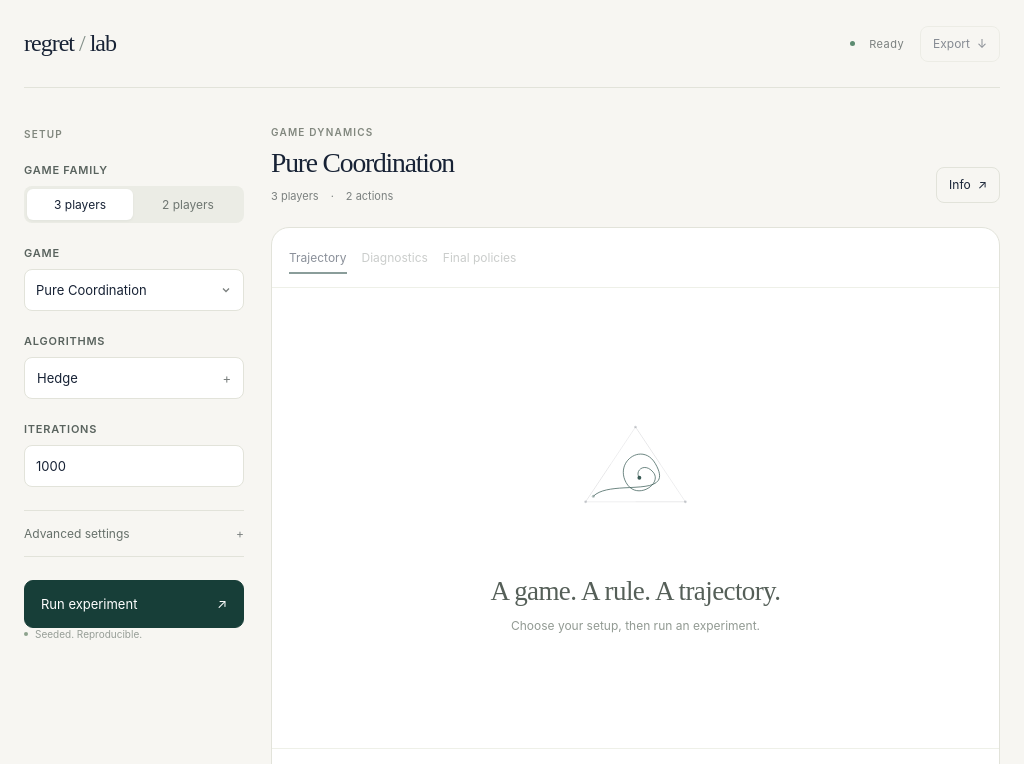
Test case: research workspace › validates selections and public compute limits before sending work
The width and height of the screenshot is (1024, 764).
Expected: the button "Run experiment ↗" is shown, [24,580,244,628]
Replace the text in the number field labelled "Iterations" with "100000" at [134, 466], box [24,445,244,487]
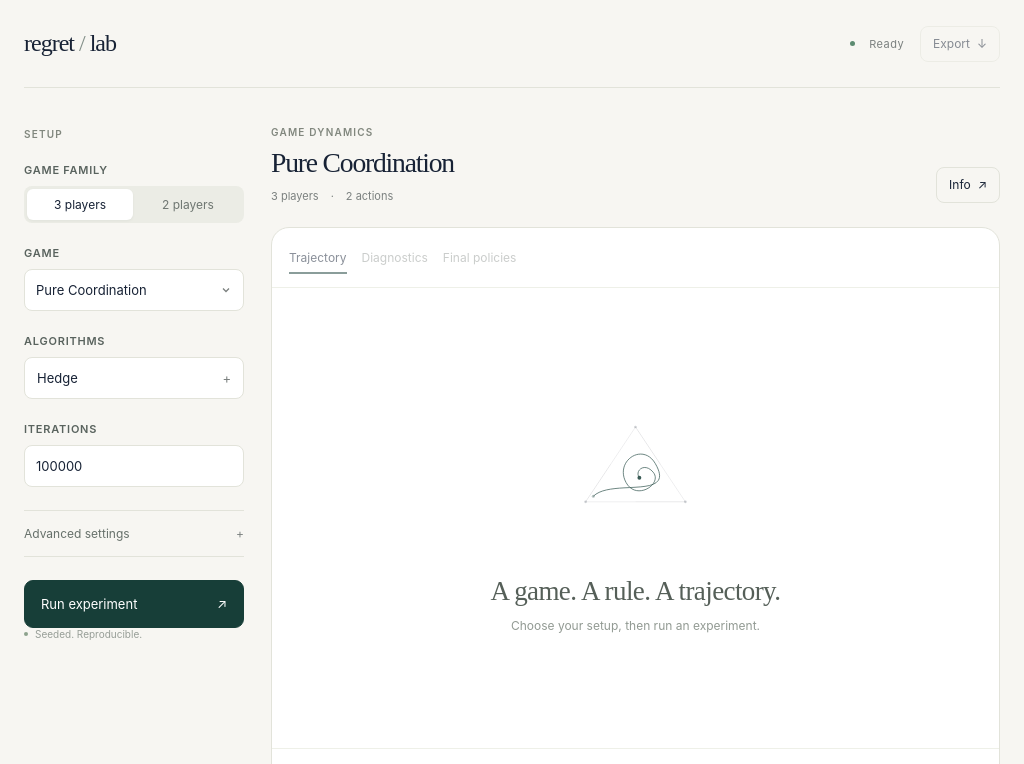
Click the button "Run experiment ↗".
click(134, 604)  # box [24,580,244,628]
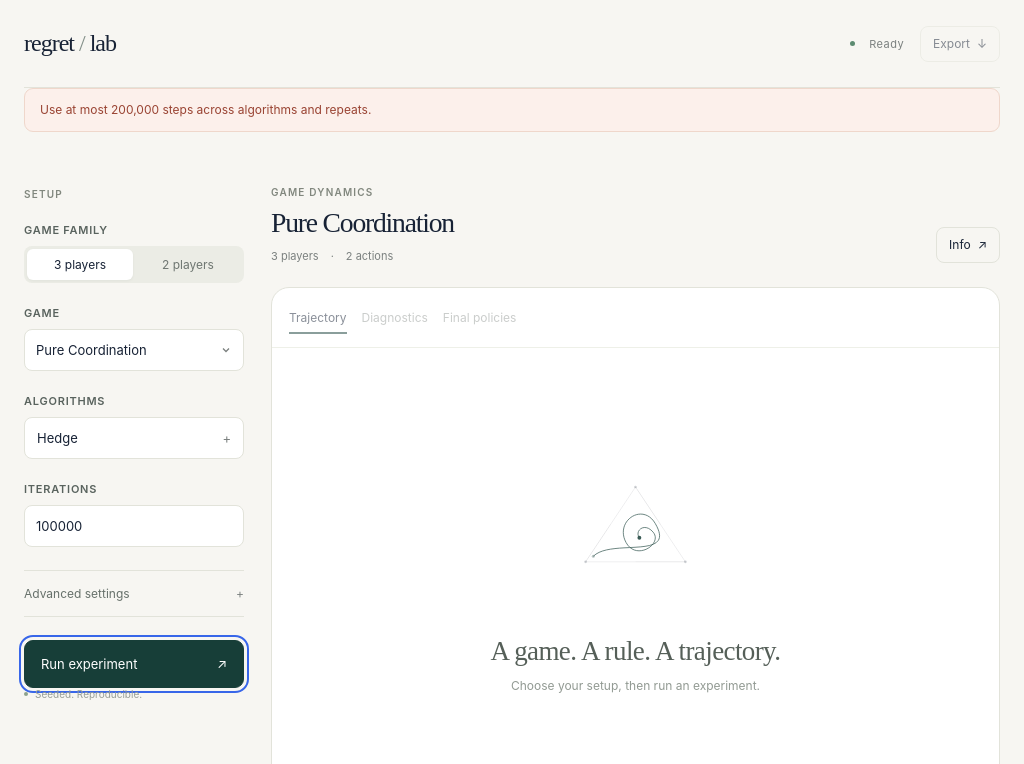
Expected: the message shows "200,000", [40,102,371,117]
